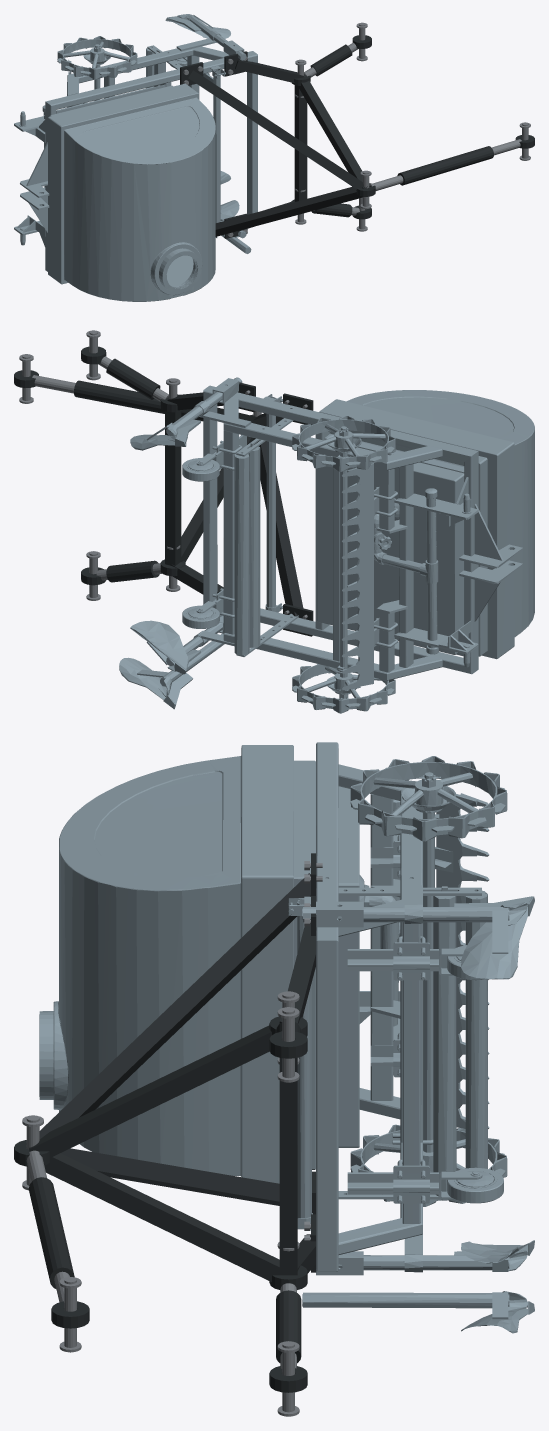
The model's file is implement_mulch_planter_visual.obj.
3 views of the same model, one above another, from view 1: azimuth 30°, elevation 25°; view 2: azimuth 150°, elevation 25°; view 3: azimuth 270°, elevation 25° (orthographic). The views are drawn at different scales.
Visible parts, largest first — view 1: solid_82, hitch_receiver_member_5, hitch_receiver_member_6, solid_131, solid_21, hitch_receiver_member_1, solid_8, hitch_receiver_member_0, hitch_top_link_sleeve, solid_165, solid_24, hitch_receiver_member_3 (+6 smaller); view 2: solid_82, solid_47, solid_131, solid_74, solid_4, solid_21, solid_8, solid_29, solid_77, solid_110, hitch_receiver_member_0, solid_7 (+33 smaller); view 3: solid_82, hitch_receiver_member_5, solid_8, solid_131, hitch_receiver_member_2, hitch_receiver_member_1, solid_77, solid_74, hitch_receiver_member_6, solid_29, solid_21, solid_4 (+27 smaller).
Part boxes in pixels (x1,y1,x2,y2): solid_82: (48,83,215,301); hitch_receiver_member_5: (188,70,367,189); hitch_receiver_member_6: (215,186,362,236); solid_131: (57,36,137,79); solid_21: (46,51,257,109); hitch_receiver_member_1: (298,75,370,188); solid_8: (247,55,257,214); hitch_receiver_member_0: (294,85,307,201); hitch_top_link_sleeve: (397,146,493,185); solid_165: (213,68,220,222); solid_24: (68,48,193,83); hitch_receiver_member_3: (235,60,303,82); solid_82: (317,390,534,659); solid_47: (347,463,373,686); solid_131: (292,415,395,471); solid_74: (234,454,249,655); solid_4: (399,464,413,667); solid_21: (203,385,478,461); solid_8: (203,391,217,604); solid_29: (223,430,238,634); solid_77: (248,446,260,647); solid_110: (292,664,395,713); hitch_receiver_member_0: (165,411,181,565); solid_7: (464,451,478,673); solid_82: (39,745,364,1183); hitch_receiver_member_5: (26,873,310,1143); solid_8: (316,940,338,1271); solid_131: (350,756,507,841); hitch_receiver_member_2: (37,1150,292,1281); hitch_receiver_member_1: (29,1025,271,1156); solid_77: (433,896,456,1196); solid_74: (465,890,487,1168); hitch_receiver_member_6: (60,1148,279,1205); solid_29: (402,922,420,1223); solid_21: (316,742,338,941); solid_4: (370,794,393,1100).
Size of the model in its own units: 2.2 by 1.06 by 1.14.
